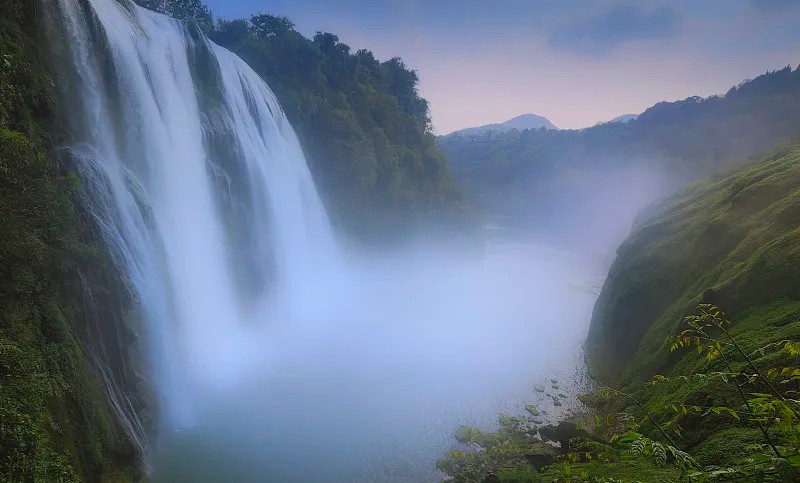Huangguoshu: (49, 1, 342, 430)
